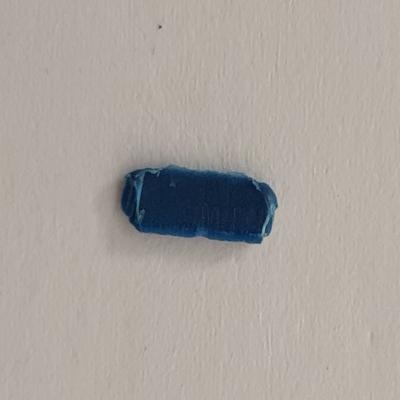plastic: (110, 159, 284, 249)
